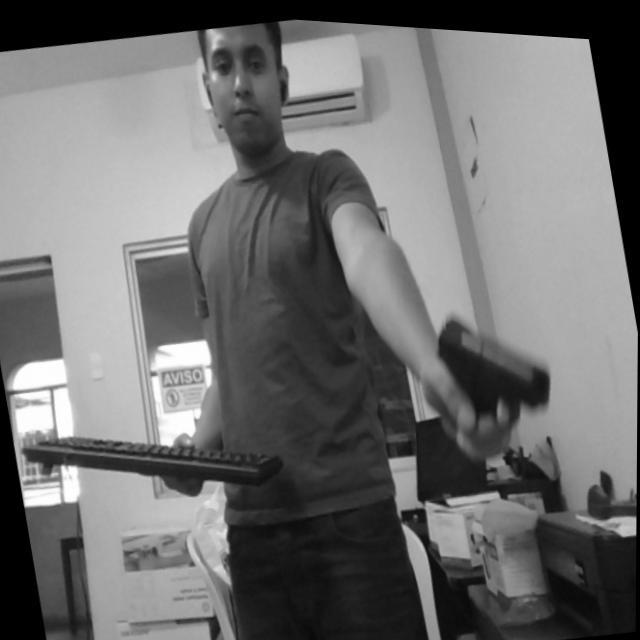weapon: (420, 292, 568, 433)
